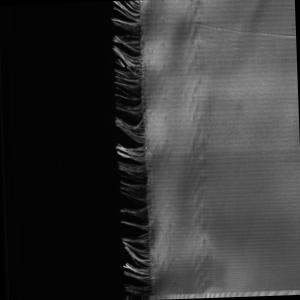Damage: (103, 1, 164, 300)
